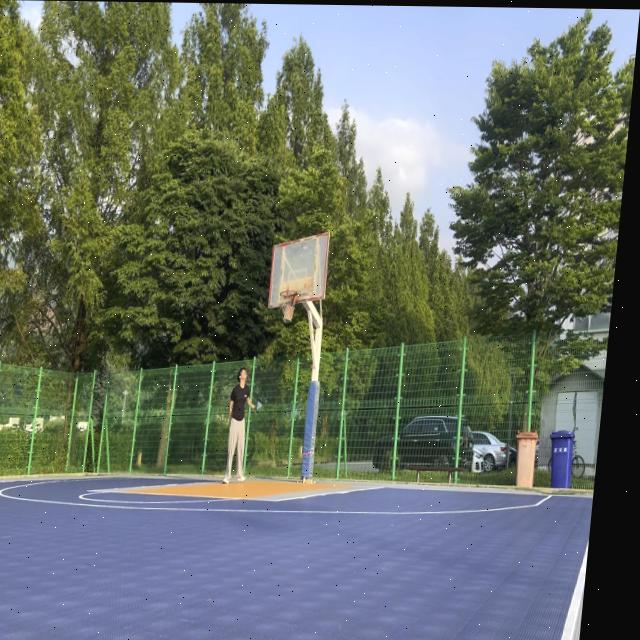basketball: (283, 305, 294, 324)
hoop: (276, 290, 298, 325), (276, 289, 298, 324)
